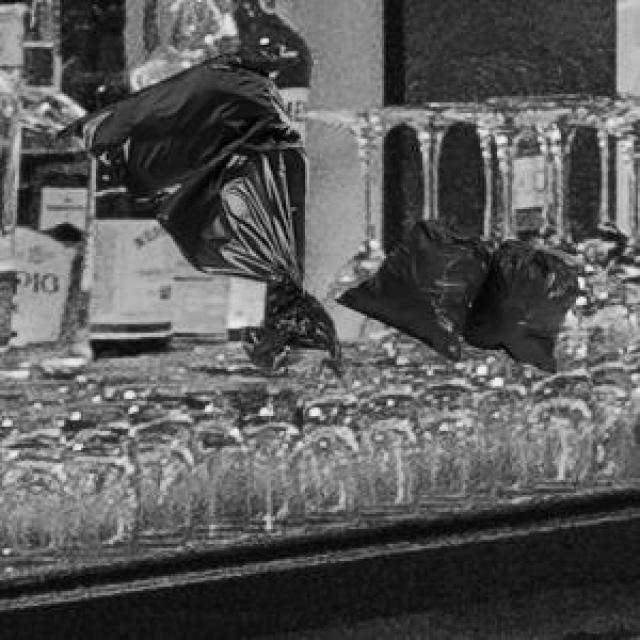miscellaneous trash: (51, 34, 337, 378), (331, 216, 578, 369)
